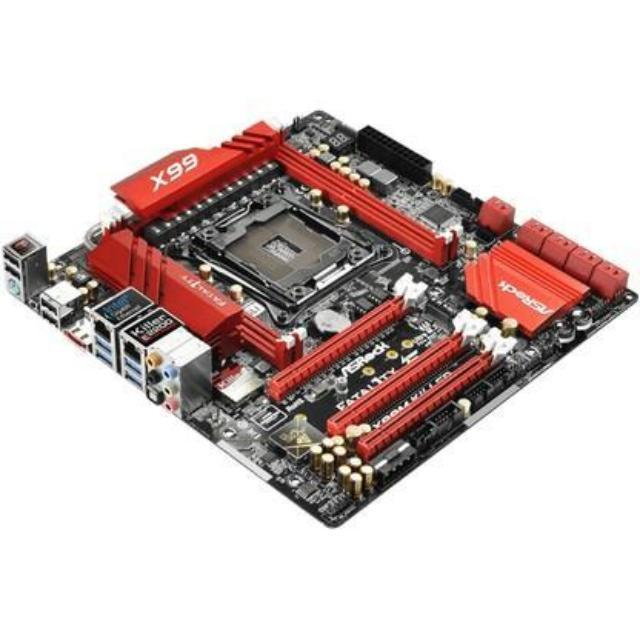Mainboard: (0, 105, 640, 530)
